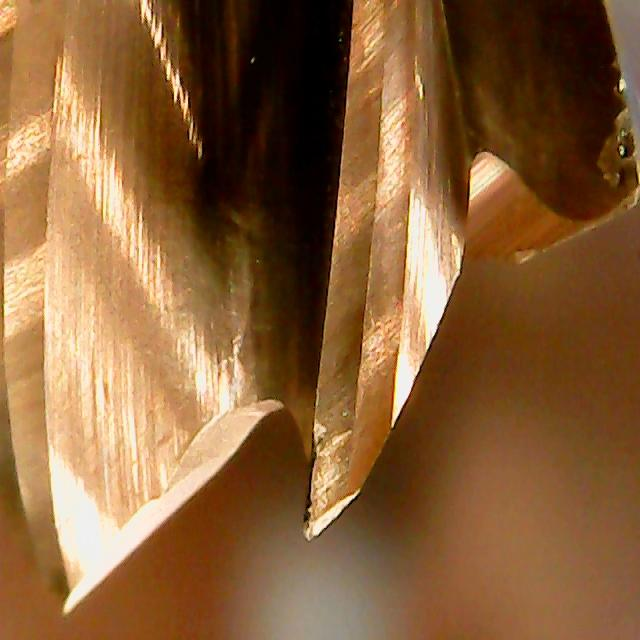Tool-wear-class-1: (285, 236, 416, 545)
